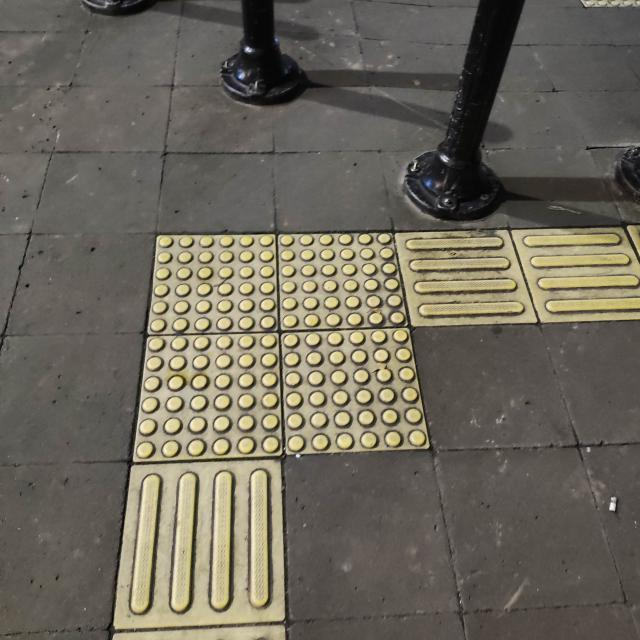kanan: (118, 196, 640, 529)
